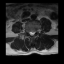CCS_normal: (31, 29, 33, 37)
LFS_normal: (34, 28, 36, 35)
LLS_normal: (33, 29, 34, 36)
RFS_normal: (27, 27, 29, 35)
RLS_normal: (29, 29, 31, 36)
